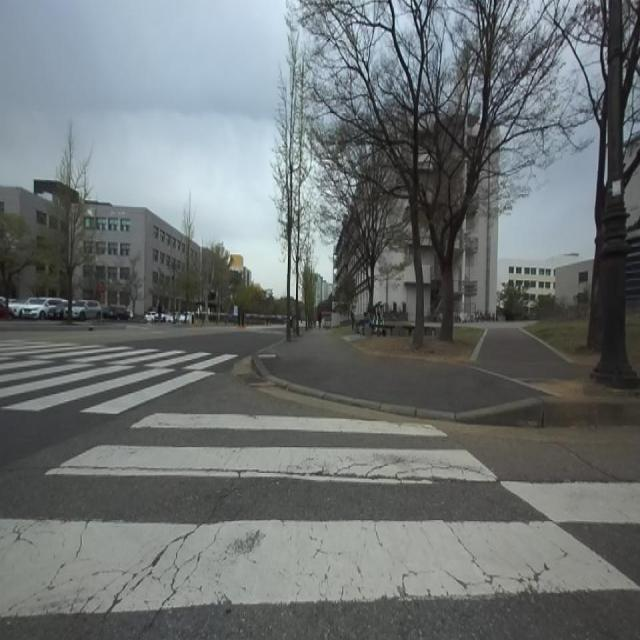sidewalk: (252, 325, 590, 413)
